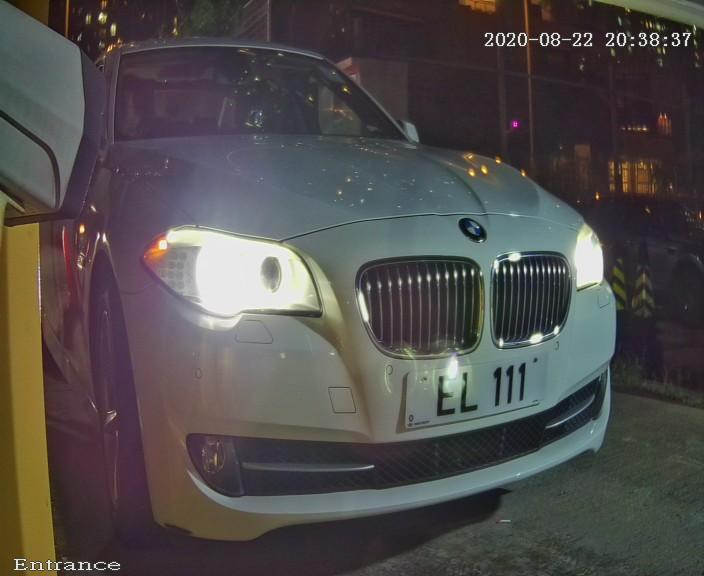Car: (13, 3, 673, 564)
License Plate: (384, 329, 563, 450)
